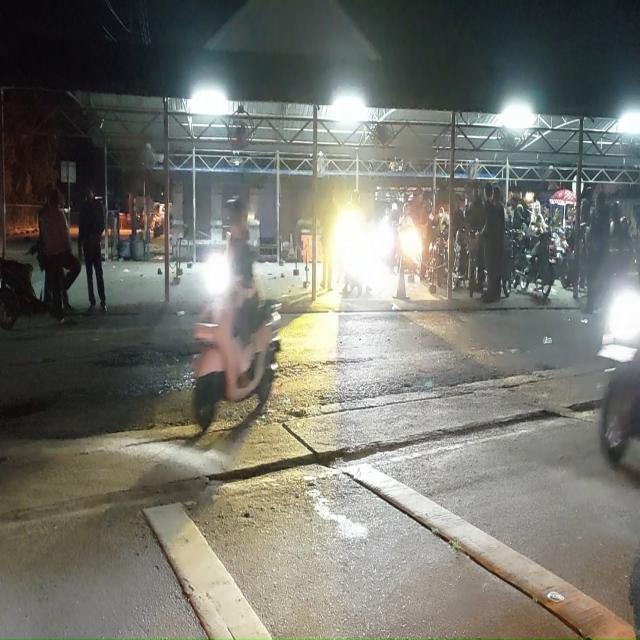Golongan II: (193, 254, 281, 430), (598, 283, 640, 464), (0, 252, 48, 330), (516, 230, 557, 298), (429, 228, 448, 289), (452, 228, 469, 290), (558, 228, 575, 289), (501, 233, 515, 297), (468, 230, 480, 298), (552, 229, 566, 283)
